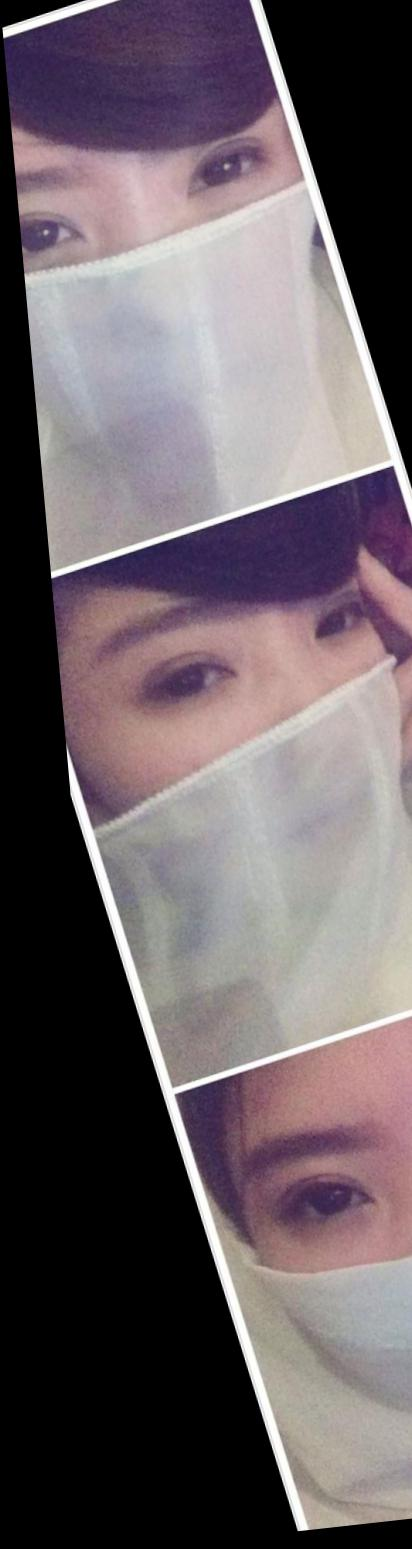NONE: (6, 45, 366, 519), (53, 564, 412, 975)
WRONG: (201, 1027, 412, 1465)
